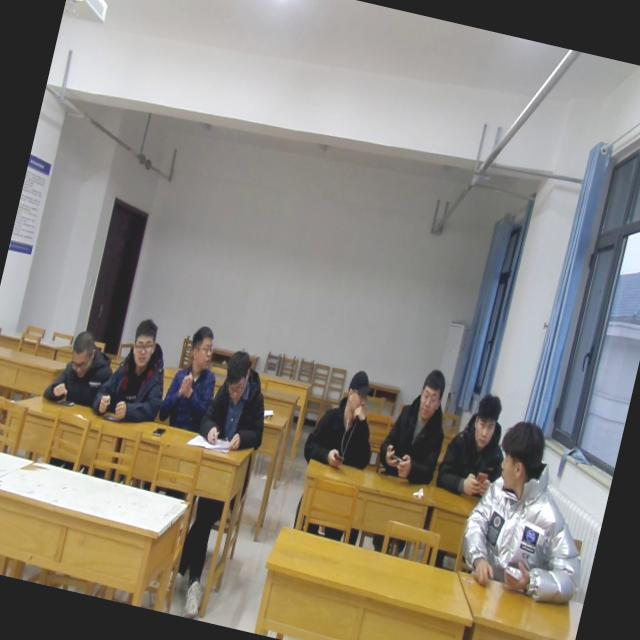bow: (38, 321, 124, 418)
down: (216, 341, 258, 406), (466, 387, 506, 453), (62, 324, 104, 384)
lookup: (410, 363, 450, 426), (124, 314, 162, 371)
sit: (449, 413, 612, 612), (370, 359, 460, 489), (90, 312, 182, 432), (299, 360, 391, 479), (434, 383, 522, 503), (195, 340, 282, 458), (156, 321, 228, 433)
